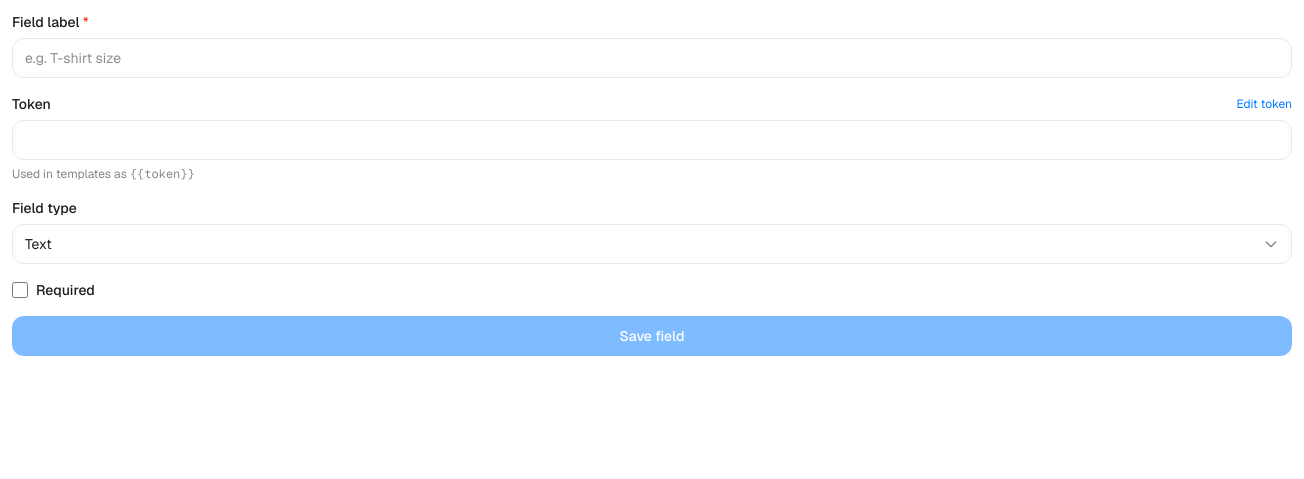
Test: FieldForm › shows options editor when dropdown type is selected
The width and height of the screenshot is (1304, 479).
In the field labelled "Field label *": (652,58) [12,38,1292,78], type "Shirt size"
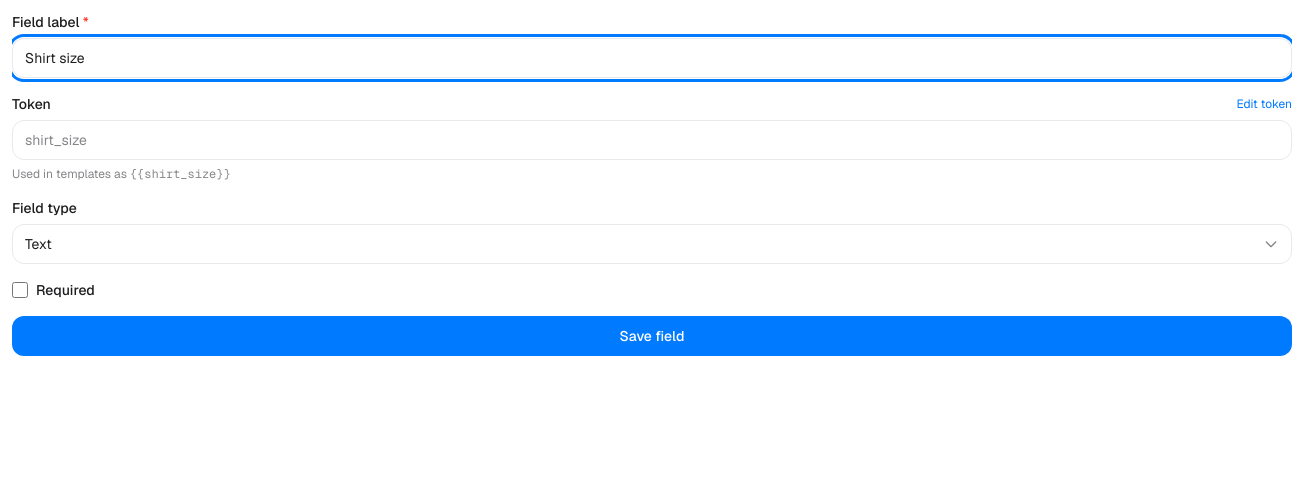
Click the dropdown named "Field type": (38,244) [12,224,1292,264]
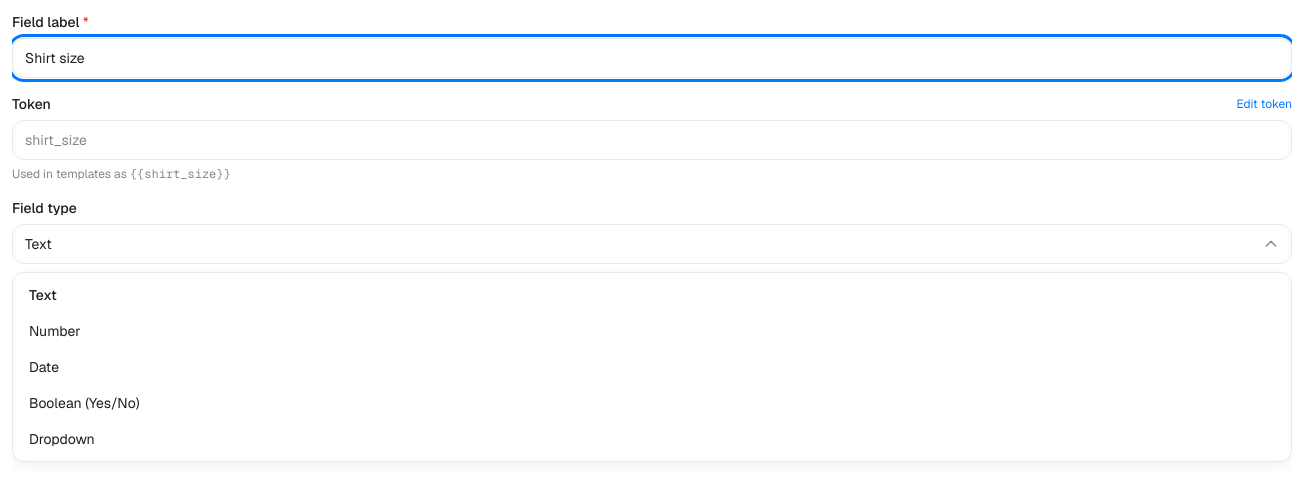
Click the option "Dropdown": (62,439) [13,421,1291,457]
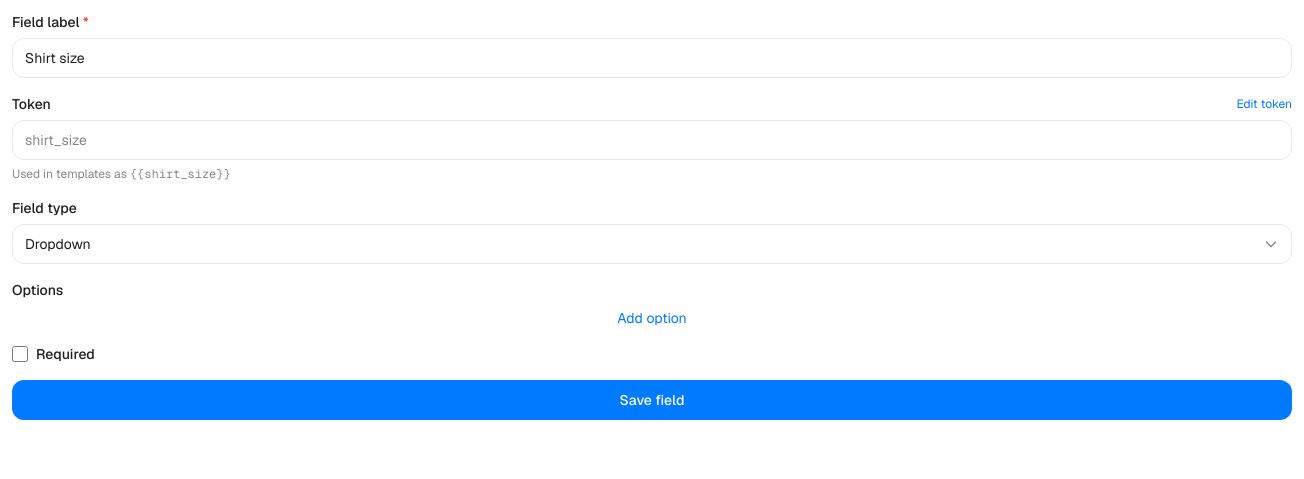
Now the text "Options" is shown, box [12,281,63,299]
Now the button "Add option" is shown, box [12,308,1292,328]
